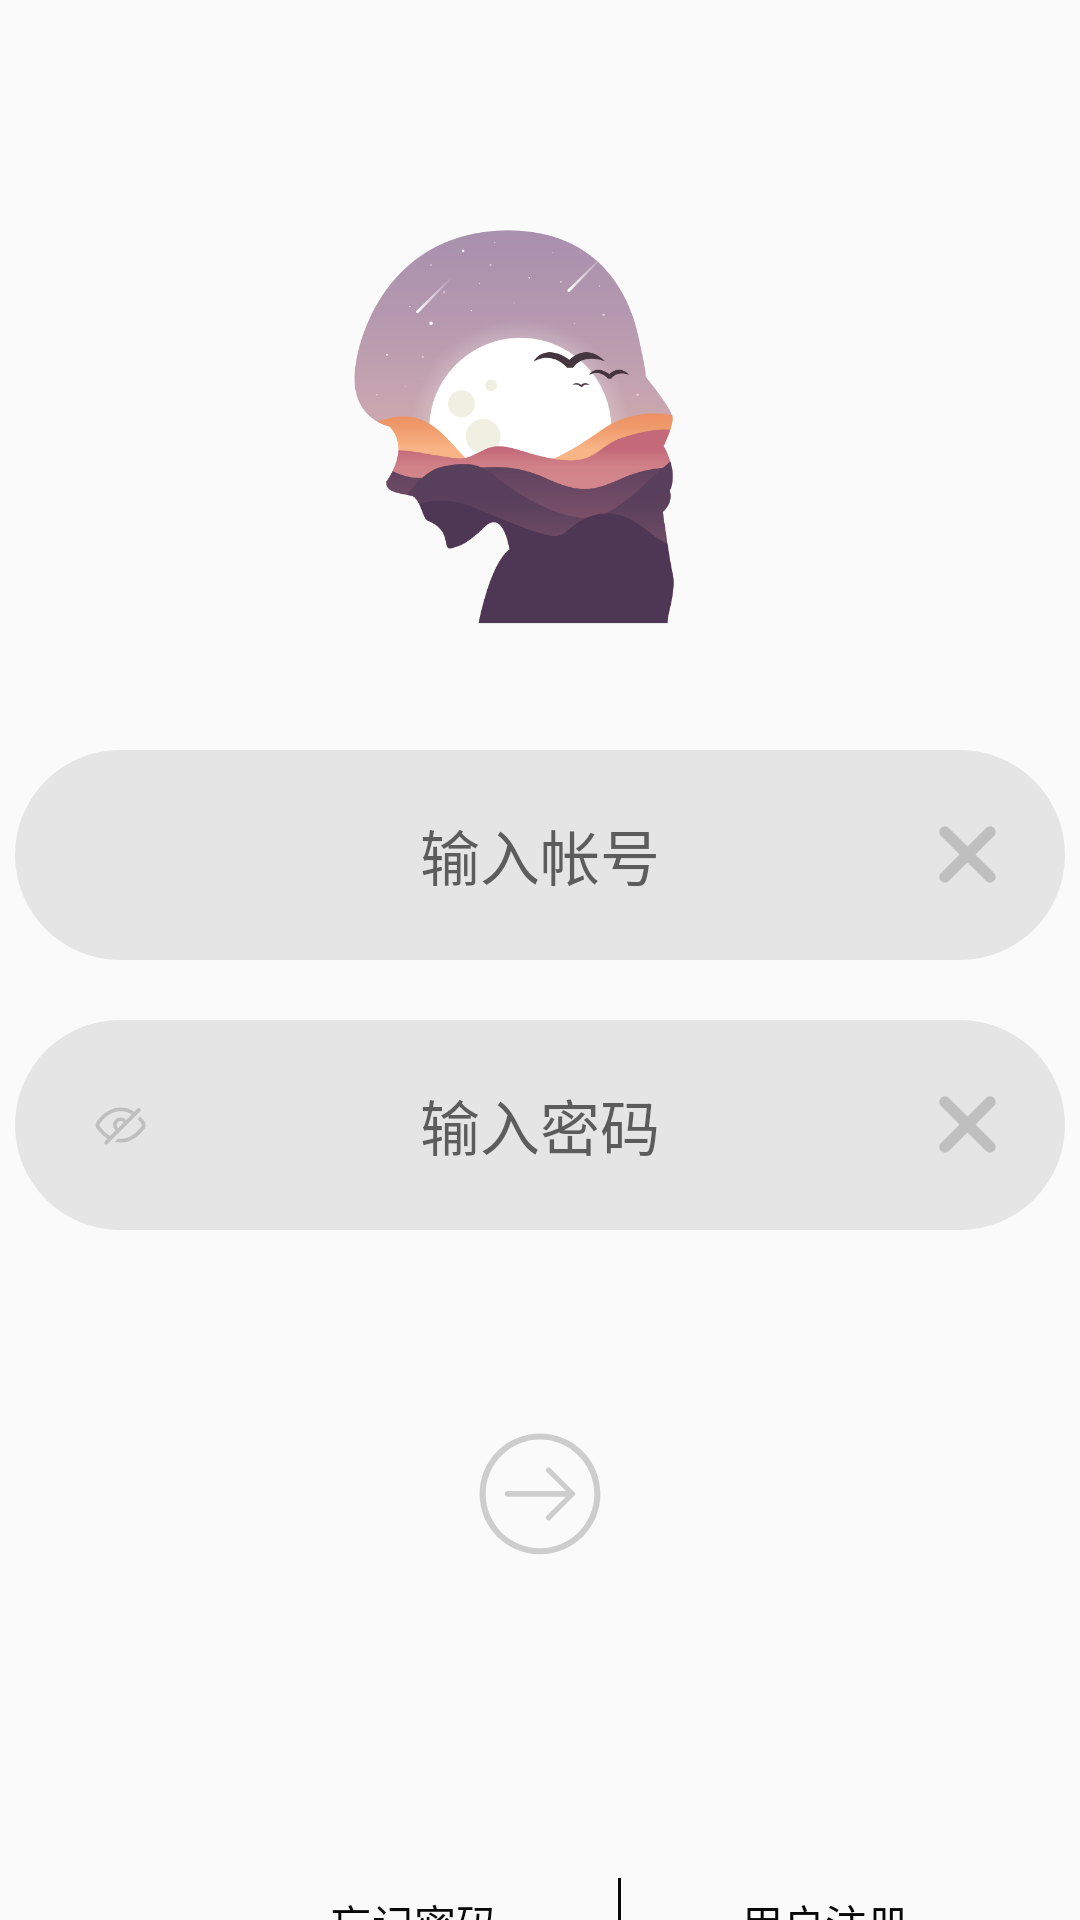

Screen size 1080px x 1920px. Icon name, then its center in pixels as (x,y):
delete: (967,854), (967,1124)
login: (540,1494)
nosee: (120,1126)
